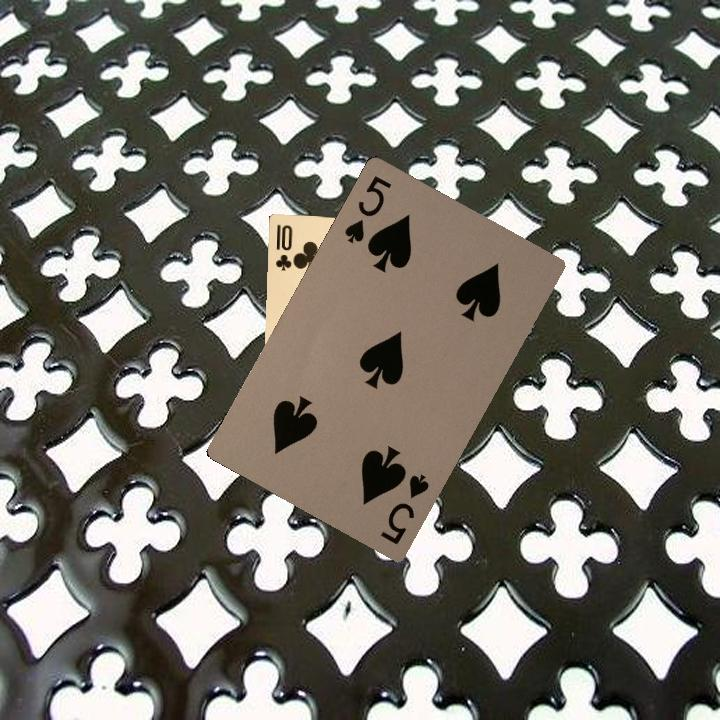10c: (271, 220, 296, 273)
5s: (376, 469, 432, 547), (340, 171, 394, 246)
